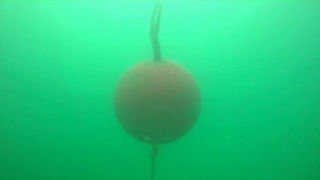buoy: (112, 57, 201, 145)
